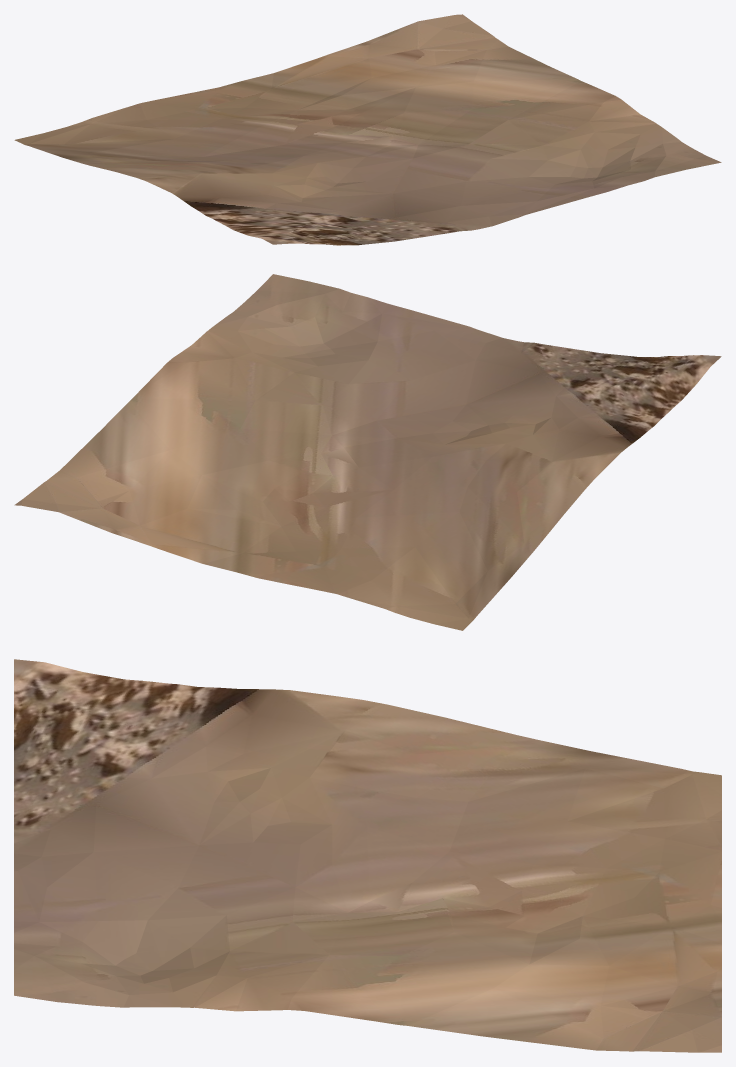
3 renders of one model, top to bottom at view 1: azimuth 30°, elevation 25°; view 2: azimuth 150°, elevation 25°; view 3: azimuth 270°, elevation 25°, orthographic. The views are drawn at different scales.
Size of the model in its own units: 1.04 by 0.1897 by 1.04.
Materials: 2 (2 with a texture image).
